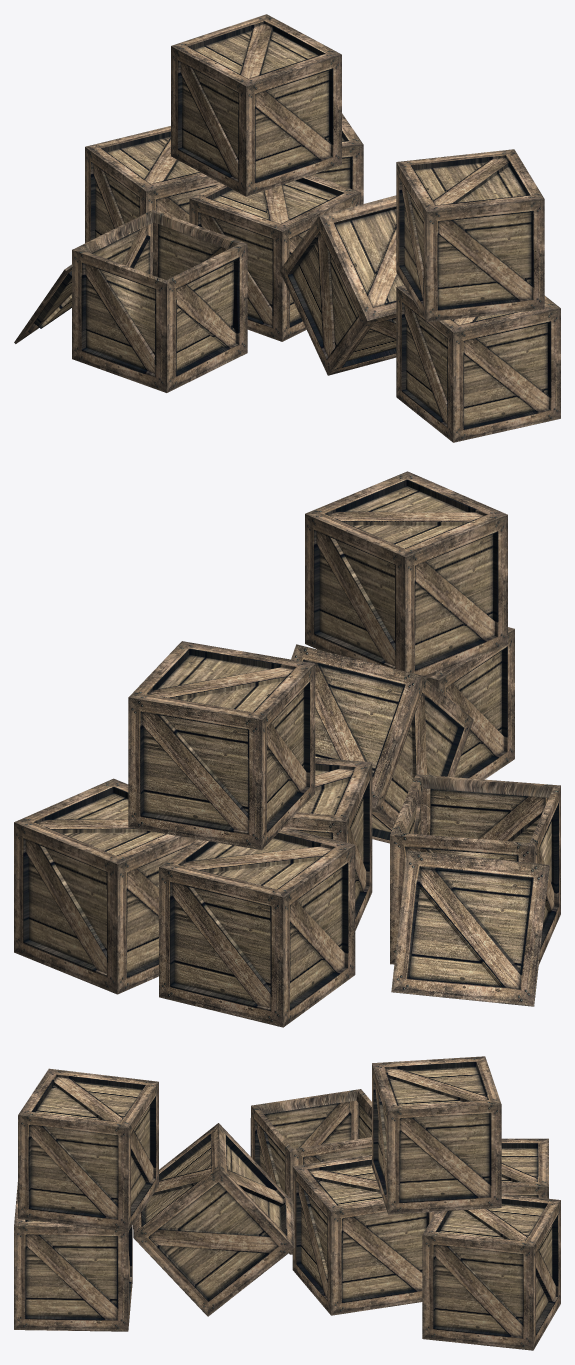
Rendered from crate22.obj.
3 renders of one model, top to bottom at view 1: azimuth 30°, elevation 25°; view 2: azimuth 150°, elevation 25°; view 3: azimuth 270°, elevation 25°, orthographic. The views are drawn at different scales.
Parts seen in each view (by area): view 1: Box008, Box003, Box007, Box006, Box005, Box002, Box001, Box004, Object001; view 2: Box007, Box003, Box001, Box004, Object001, Box005, Box008, Box006, Box002; view 3: Box007, Box003, Box005, Box004, Box002, Box006, Box008, Box001.
Boxes of the visible parts, box(x1,y1,x2,y2) form: Box008: box(72, 210, 247, 392); Box003: box(171, 14, 341, 196); Box007: box(396, 149, 544, 321); Box006: box(396, 285, 560, 442); Box005: box(279, 195, 403, 375); Box002: box(189, 175, 360, 341); Box001: box(85, 126, 219, 243); Box004: box(312, 113, 363, 204); Object001: box(14, 264, 73, 343); Box007: box(305, 471, 507, 678); Box003: box(128, 641, 315, 850); Box001: box(159, 827, 355, 1027); Box004: box(14, 778, 196, 994); Object001: box(391, 850, 549, 1006); Box005: box(291, 644, 473, 843); Box008: box(390, 774, 560, 964); Box006: box(426, 627, 514, 779); Box002: box(284, 758, 372, 930); Box007: box(18, 1068, 158, 1231); Box003: box(372, 1056, 501, 1214); Box005: box(133, 1123, 294, 1316); Box004: box(422, 1194, 560, 1350); Box002: box(292, 1154, 435, 1315); Box006: box(14, 1182, 132, 1331); Box008: box(250, 1089, 371, 1254); Box001: box(501, 1138, 548, 1198).
Size of the model in its own units: 179 by 102 by 239.
